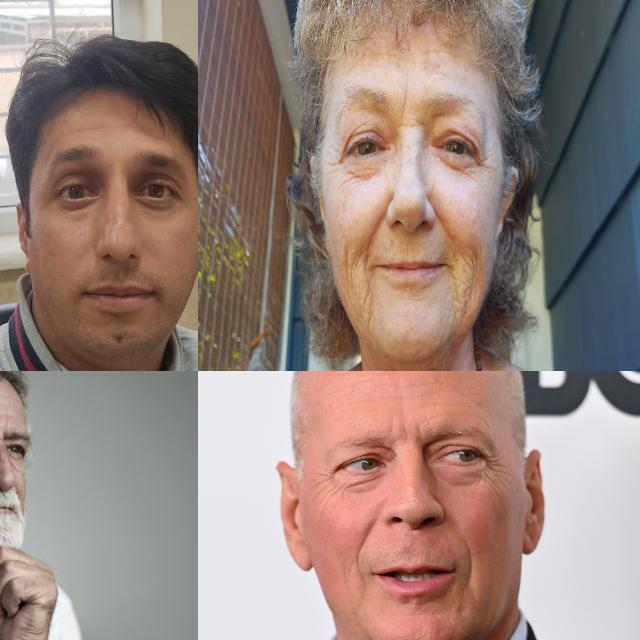crows_feet: (312, 469, 342, 509), (484, 457, 506, 498), (329, 146, 346, 180), (478, 148, 494, 183)
forehead: (402, 376, 441, 400), (69, 118, 107, 136)
frown_line: (396, 79, 414, 127), (388, 421, 424, 444)
gummy_smile: (350, 529, 378, 581), (462, 538, 482, 594), (367, 201, 387, 251), (434, 204, 455, 248)
masseter: (338, 242, 360, 301), (468, 251, 483, 302)
sad_smile: (361, 279, 376, 329), (448, 267, 460, 329)
